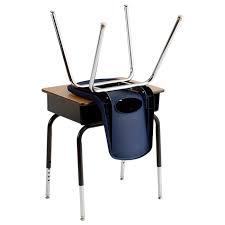desk_059.jpg: (25, 61, 174, 224)
